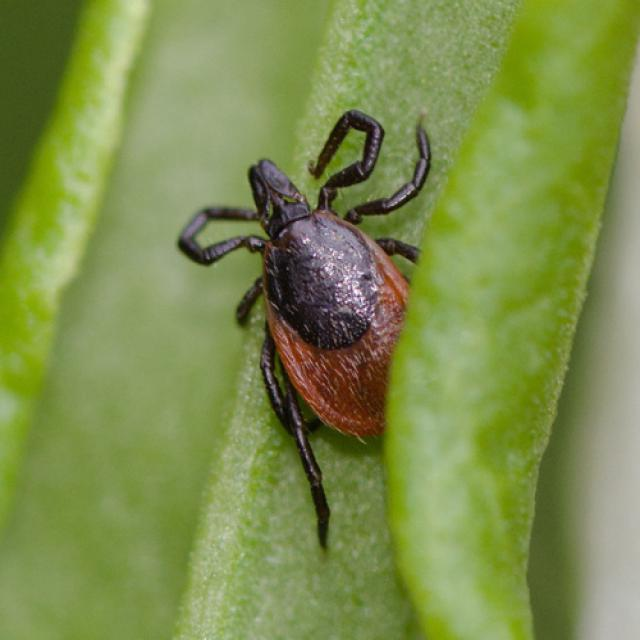Ixodes Ricinus-F: (177, 108, 433, 551)
